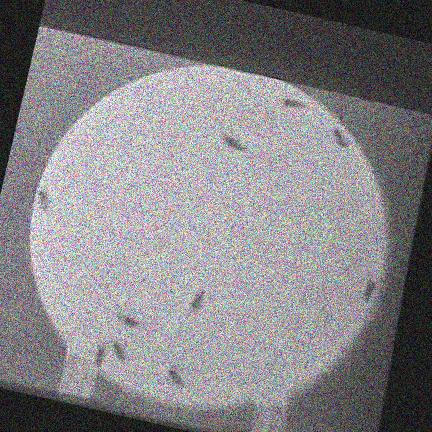fly: (188, 290, 206, 313), (117, 311, 140, 327), (224, 134, 247, 150), (363, 276, 377, 301), (112, 339, 127, 362), (37, 184, 50, 210), (168, 367, 185, 386), (95, 342, 107, 366), (282, 97, 305, 108), (334, 128, 348, 146)
